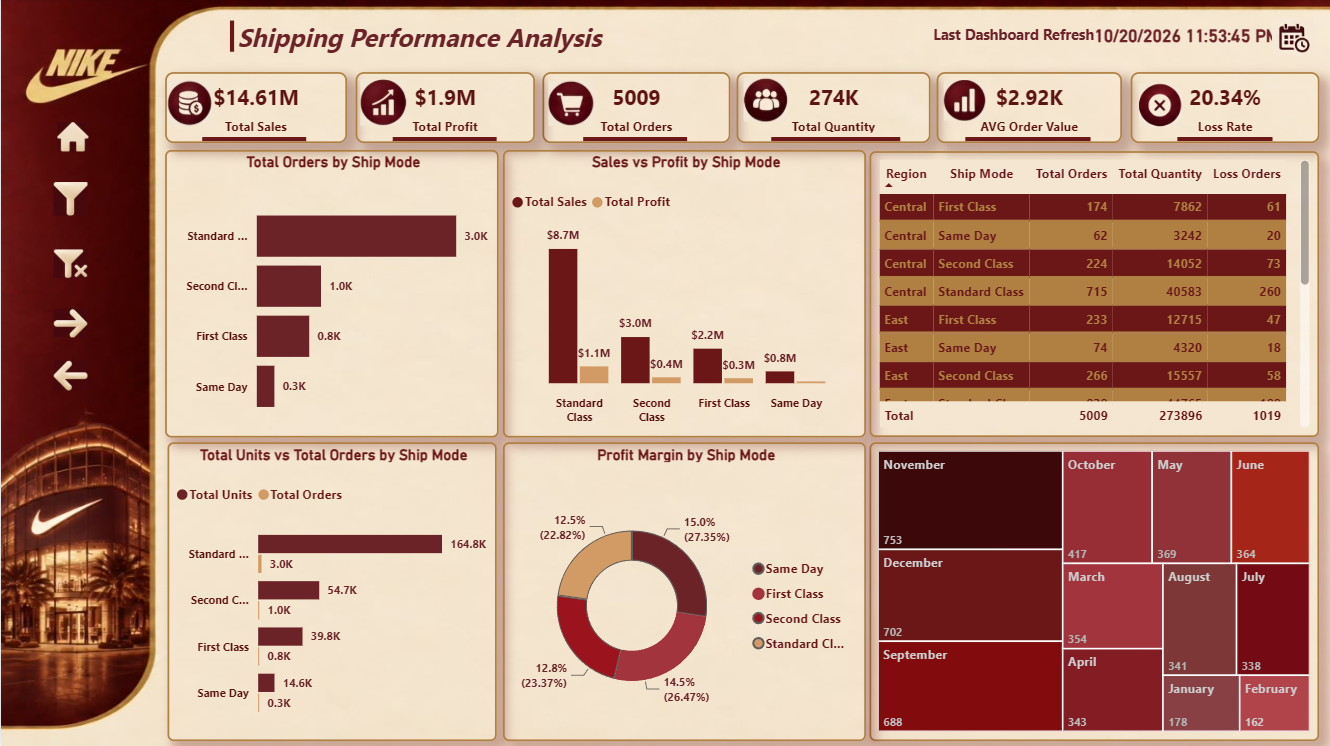

The page's visual inventory and layout, read from the dashboard file:
{"tool":"powerbi","page":{"name":"Shipping ","canvas":[1280,720],"ordinal":5},"visuals":[{"type":"card","fields":{"Values":["DAX_Measures.Total Sales"]},"box":[158,70,174.9,68.8],"z":0},{"type":"card","fields":{"Values":["DAX_Measures.Total Orders"]},"box":[521.2,70,181,68.8],"z":1000},{"type":"card","fields":{"Values":["DAX_Measures.Total Quantity"]},"box":[708.2,70,187,68.8],"z":2000},{"type":"card","fields":{"Values":["DAX_Measures.AVG Order Value"]},"box":[901.2,70,178.6,68.8],"z":3000},{"type":"card","fields":{"Values":["DAX_Measures.Total Profit"]},"box":[341.4,70,172.5,68.8],"z":4000},{"type":"card","fields":{"Values":["DAX_Measures.Loss Rate"]},"box":[1088.8,70,182.2,68.8],"z":4000,"group":"g1"},{"type":"shape","box":[205.8,20.6,34.3,30.2],"z":5000},{"type":"textbox","box":[223.2,14.5,400.5,42.2],"z":6000},{"type":"card","fields":{"Values":["DAX_Measures.System Time"]},"box":[1041.2,16.9,202.7,37.4],"z":7000},{"type":"textbox","box":[892.8,19.3,174.9,35],"z":8000},{"type":"image","box":[1224.5,14.5,39.8,43.4],"z":9000},{"type":"shape","box":[194.2,109.8,100.1,50.7],"z":10000},{"type":"shape","box":[377.6,109.8,100.1,50.7],"z":11000},{"type":"shape","box":[561,109.8,100.1,50.7],"z":12000},{"type":"shape","box":[742,109.8,124.3,50.7],"z":13000},{"type":"shape","box":[929,109.8,120.6,50.7],"z":14000},{"type":"shape","box":[1132.8,109.8,91.7,50.7],"z":15000},{"type":"group","id":"g1","title":"Group 1","box":[160.3,70,1110.7,68.8],"z":16000},{"type":"image","box":[346.2,76,44.6,47.1],"z":17000},{"type":"image","box":[527.2,76,43.4,48.3],"z":18000},{"type":"image","box":[715.4,73.6,42.2,47.1],"z":19000},{"type":"image","box":[908.4,74.1,39.8,48],"z":20000},{"type":"clusteredBarChart","fields":{"Category":["Dim_Ship Mode.Ship Mode"],"Y":["DAX_Measures.Total Orders"]},"box":[157.8,145.5,321.1,277.2],"z":21000},{"type":"lineClusteredColumnComboChart","title":"Sales vs Profit by Ship Mode","fields":{"Category":["Dim_Ship Mode.Ship Mode"],"Y":["DAX_Measures.Total Sales","DAX_Measures.Total Profit"]},"box":[483,145.5,349.9,277.2],"z":22000},{"type":"tableEx","fields":{"Values":["People.Region","Dim_Ship Mode.Ship Mode","DAX_Measures.Total Orders","DAX_Measures.Total Quantity","DAX_Measures.Loss Orders"]},"box":[837.1,146.8,433.6,275.8],"z":23000},{"type":"treemap","fields":{"Group":["Fact_Orders.Order Date.Variation.Date Hierarchy.Year","Fact_Orders.Order Date.Variation.Date Hierarchy.Quarter","Fact_Orders.Order Date.Variation.Date Hierarchy.Month","Fact_Orders.Order Date.Variation.Date Hierarchy.Day","Dim_Ship Mode.Ship Mode"],"Values":["DAX_Measures.Total Orders"]},"box":[837.1,426.8,433.6,288.2],"z":24000},{"type":"image","box":[160.3,78.4,42.2,43.4],"z":25000,"group":"g1"},{"type":"clusteredBarChart","title":"Total Units vs Total Orders by Ship Mode","fields":{"Category":["Dim_Ship Mode.Ship Mode"],"Y":["DAX_Measures.Total Units","DAX_Measures.Total Orders"]},"box":[160.5,426.8,317,288.2],"z":25000},{"type":"donutChart","fields":{"Category":["Dim_Ship Mode.Ship Mode"],"Y":["DAX_Measures.Profit Margin"]},"box":[483,426.8,349.9,288.2],"z":26000},{"type":"image","box":[1096.4,74.1,41.2,56.3],"z":27000},{"type":"image","box":[53.8,102.5,30,60],"z":28000},{"type":"image","box":[51.2,170,32.5,46.2],"z":29000},{"type":"image","box":[51.2,217.5,32.5,76.2],"z":30000},{"type":"image","box":[51.2,293.8,32.5,36.2],"z":31000},{"type":"image","box":[51.2,343.8,32.5,37.5],"z":32000}]}

Visuals, with their boxes in screenshot pixels (x1, y1, x2, y2), scaled from the page's 1280x720 canvas onto the 1330x746 screenshot:
card - DAX_Measures.Total Sales: (left=164, top=73, right=346, bottom=144)
card - DAX_Measures.Total Orders: (left=542, top=73, right=730, bottom=144)
card - DAX_Measures.Total Quantity: (left=736, top=73, right=930, bottom=144)
card - DAX_Measures.AVG Order Value: (left=936, top=73, right=1122, bottom=144)
card - DAX_Measures.Total Profit: (left=355, top=73, right=534, bottom=144)
card - DAX_Measures.Loss Rate: (left=1131, top=73, right=1321, bottom=144)
shape: (left=214, top=21, right=249, bottom=53)
textbox: (left=232, top=15, right=648, bottom=59)
card - DAX_Measures.System Time: (left=1082, top=18, right=1292, bottom=56)
textbox: (left=928, top=20, right=1109, bottom=56)
image: (left=1272, top=15, right=1314, bottom=60)
shape: (left=202, top=114, right=306, bottom=166)
shape: (left=392, top=114, right=496, bottom=166)
shape: (left=583, top=114, right=687, bottom=166)
shape: (left=771, top=114, right=900, bottom=166)
shape: (left=965, top=114, right=1091, bottom=166)
shape: (left=1177, top=114, right=1272, bottom=166)
"Group 1" group: (left=167, top=73, right=1321, bottom=144)
image: (left=360, top=79, right=406, bottom=128)
image: (left=548, top=79, right=593, bottom=129)
image: (left=743, top=76, right=787, bottom=125)
image: (left=944, top=77, right=985, bottom=127)
clusteredBarChart - Dim_Ship Mode.Ship Mode x DAX_Measures.Total Orders: (left=164, top=151, right=498, bottom=438)
"Sales vs Profit by Ship Mode" lineClusteredColumnComboChart: (left=502, top=151, right=865, bottom=438)
tableEx - People.Region x Dim_Ship Mode.Ship Mode: (left=870, top=152, right=1320, bottom=438)
treemap - Fact_Orders.Order Date.Variation.Date Hierarchy.Year x Fact_Orders.Order Date.Variation.Date Hierarchy.Quarter: (left=870, top=442, right=1320, bottom=741)
image: (left=167, top=81, right=210, bottom=126)
"Total Units vs Total Orders by Ship Mode" clusteredBarChart: (left=167, top=442, right=496, bottom=741)
donutChart - Dim_Ship Mode.Ship Mode x DAX_Measures.Profit Margin: (left=502, top=442, right=865, bottom=741)
image: (left=1139, top=77, right=1182, bottom=135)
image: (left=56, top=106, right=87, bottom=168)
image: (left=53, top=176, right=87, bottom=224)
image: (left=53, top=225, right=87, bottom=304)
image: (left=53, top=304, right=87, bottom=342)
image: (left=53, top=356, right=87, bottom=395)
